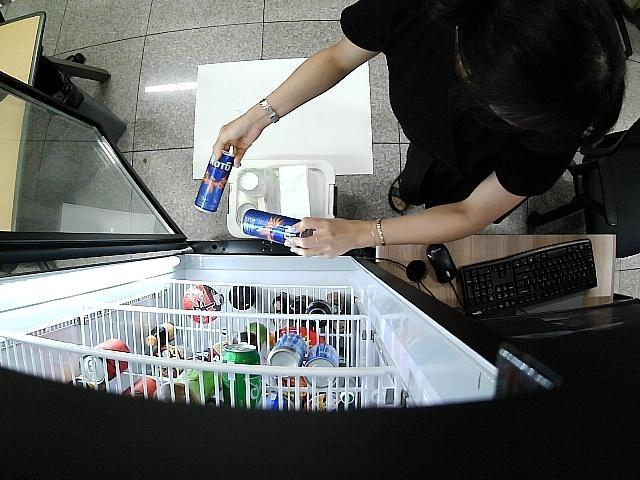16_hot6: (240, 208, 312, 248), (193, 150, 236, 214)
